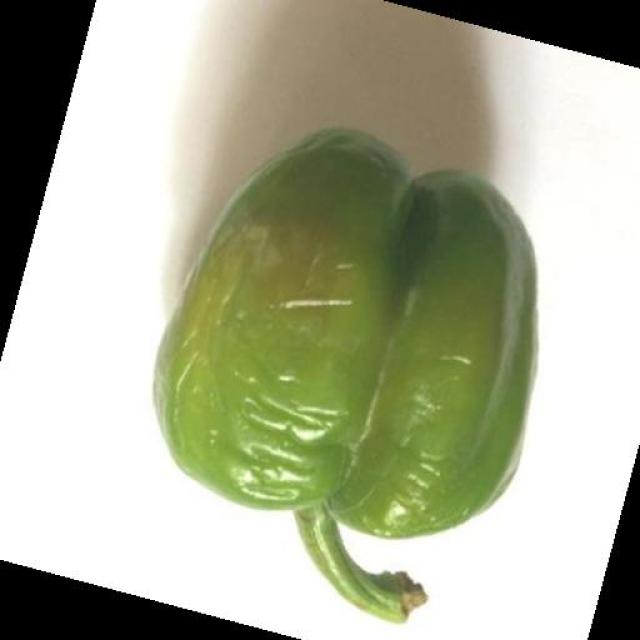Stale_Capsicum: (171, 159, 391, 450)
